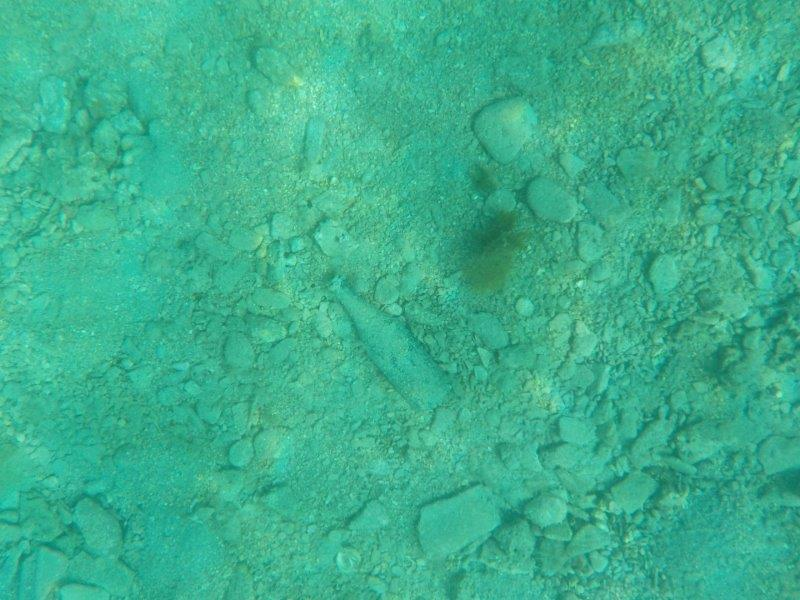bottle: (326, 271, 452, 415)
